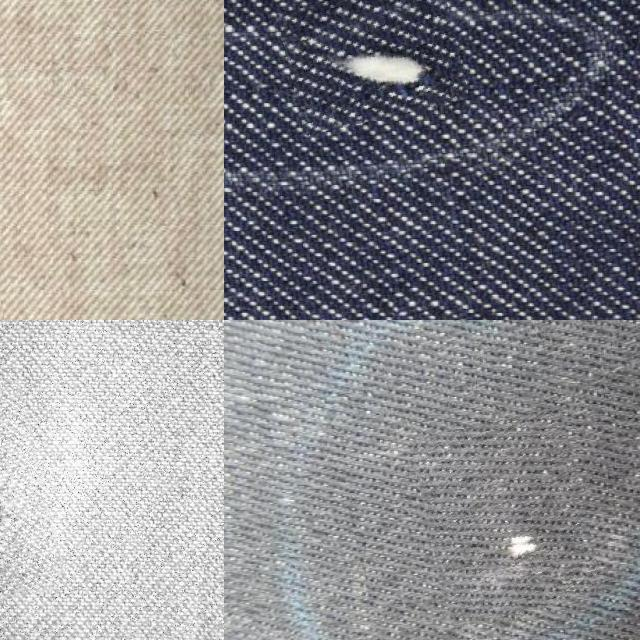Thread_other: (418, 413, 594, 619), (282, 0, 463, 126)
seam: (0, 391, 56, 611)
